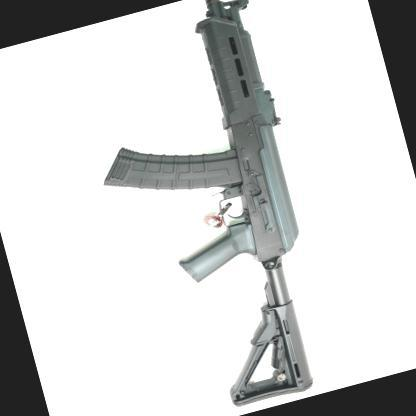rifle: (57, 0, 362, 416)
